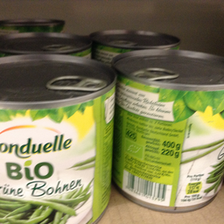beans: (1, 49, 114, 224), (115, 49, 221, 214)
